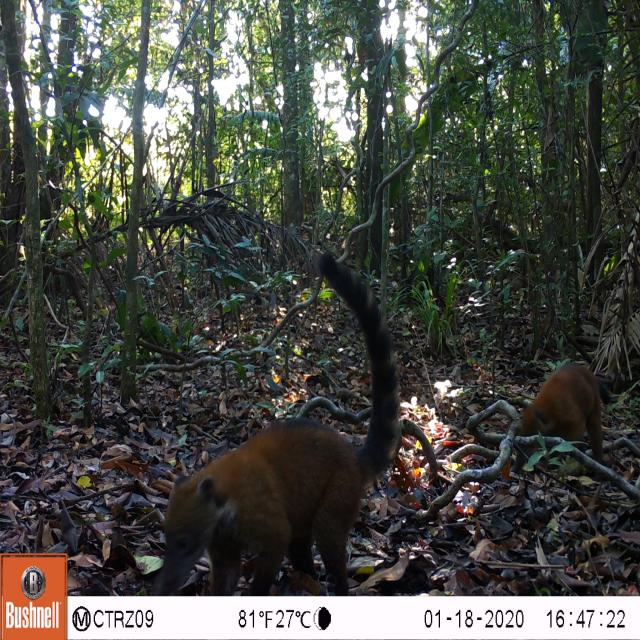South American Coati: (144, 239, 398, 596), (506, 343, 620, 477)
